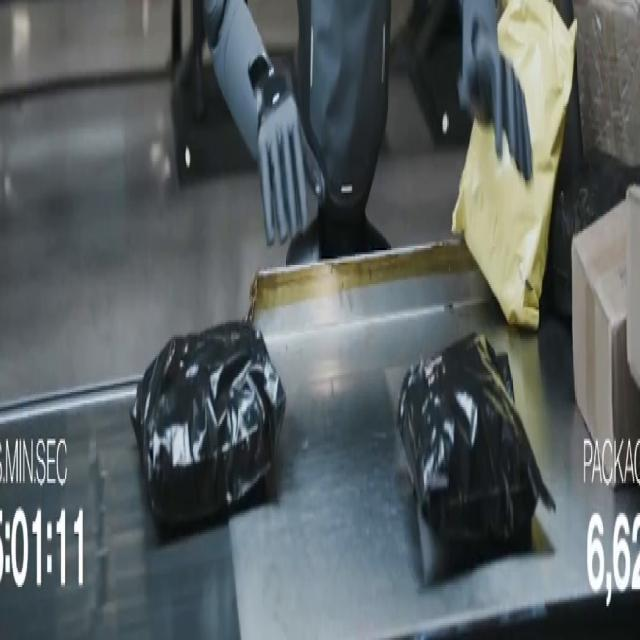package: (453, 0, 576, 328), (398, 333, 555, 544), (131, 323, 285, 525), (572, 198, 639, 487), (548, 151, 639, 317), (574, 0, 639, 165), (627, 185, 639, 387)
